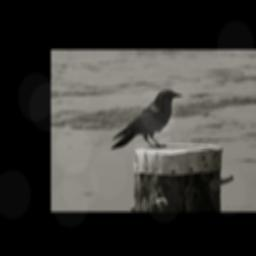Crow: (107, 87, 185, 153)
